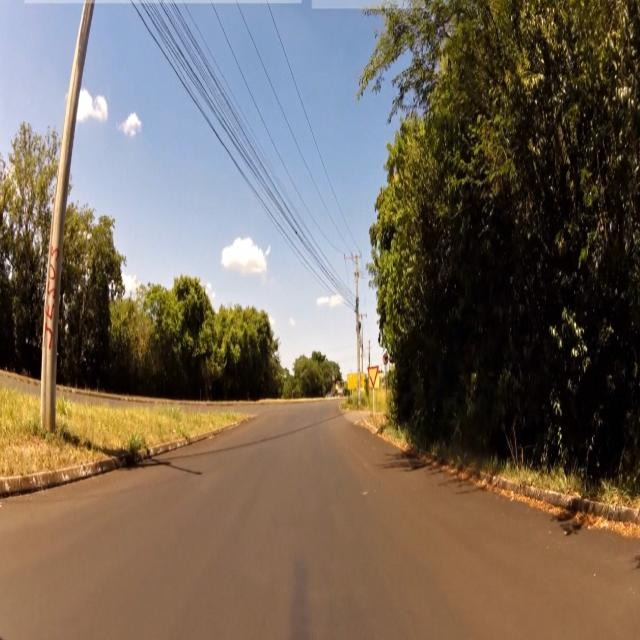R-2: (367, 362, 378, 390)
